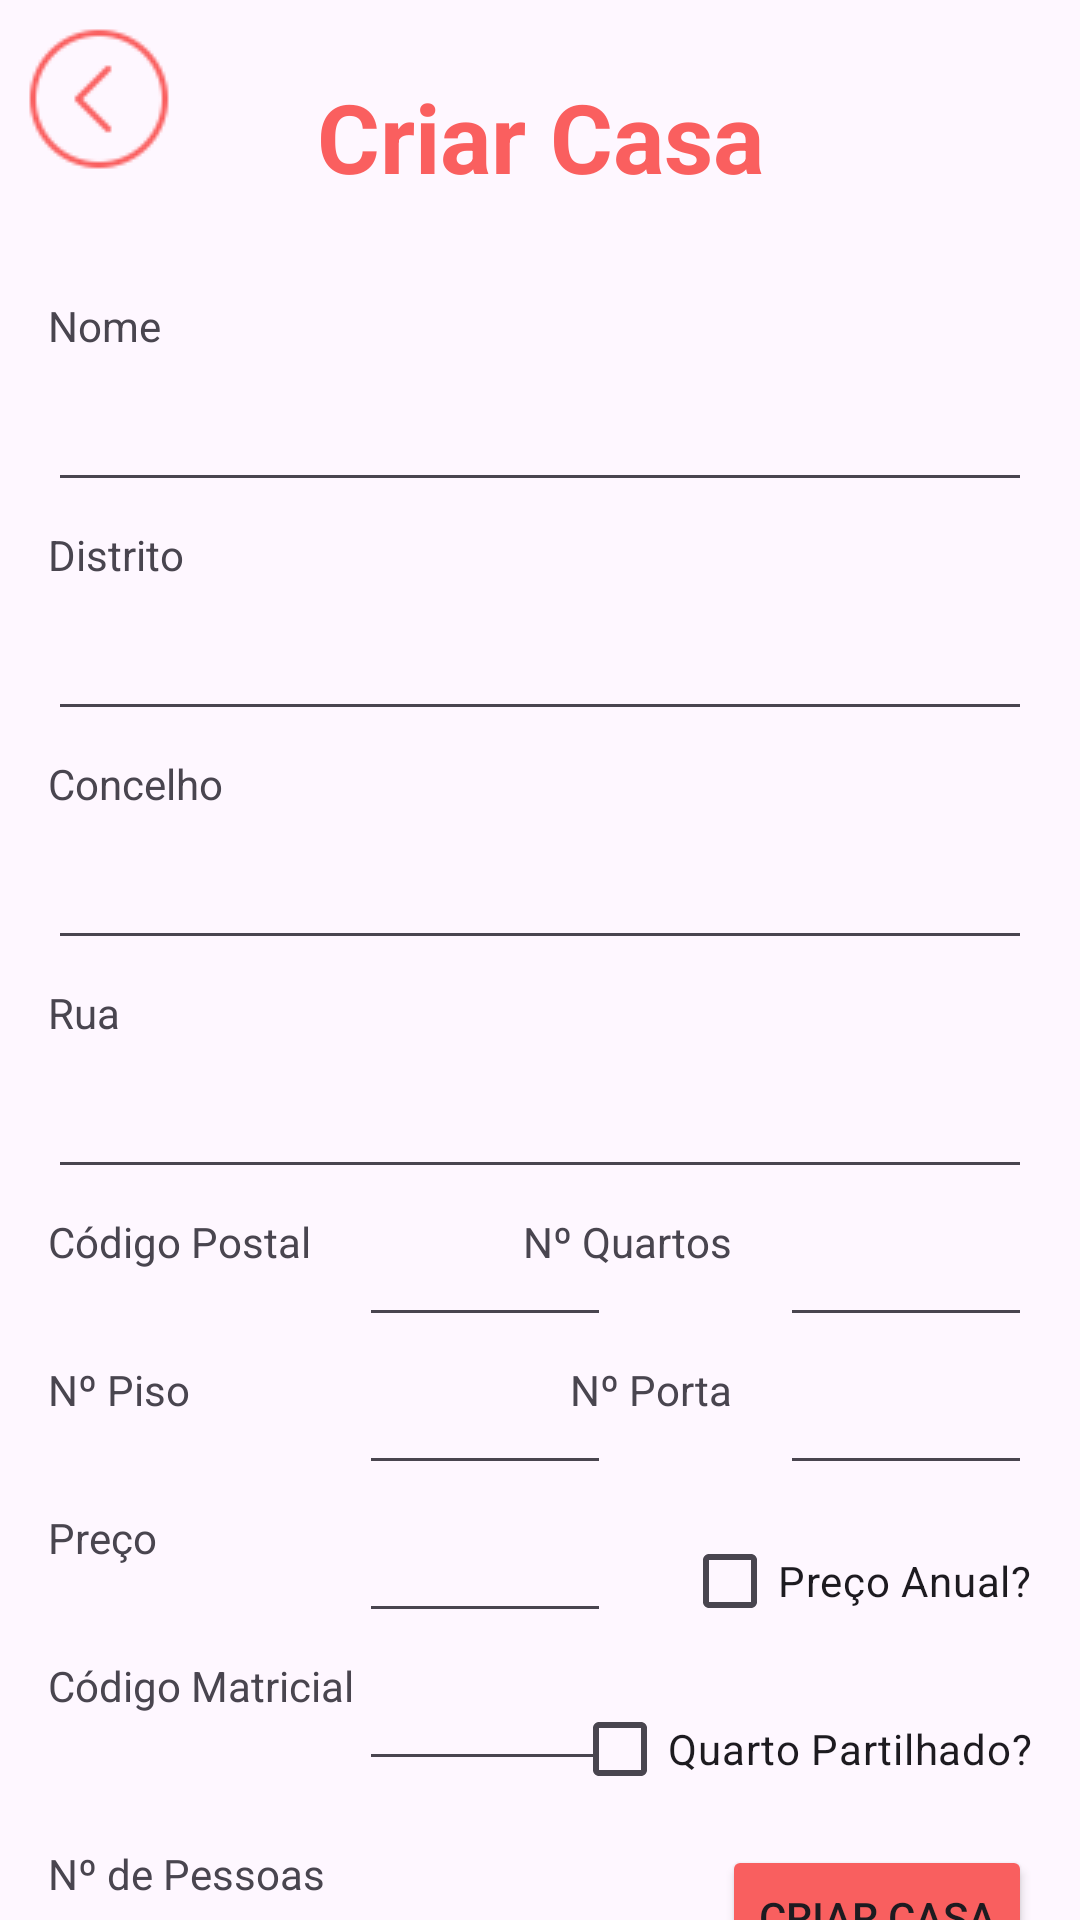

Screen size 1080×1920. Icon name, then its box in pixels as box(x1, y1, x2, y2):
back: box(29, 29, 169, 169)
